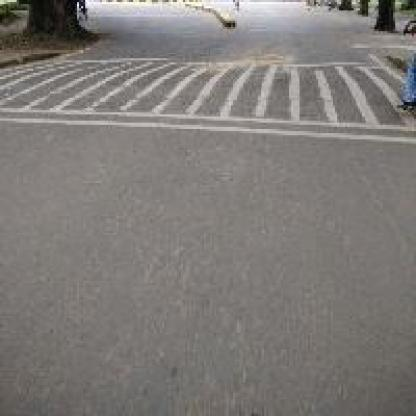Speed Bump: (2, 57, 410, 145)
